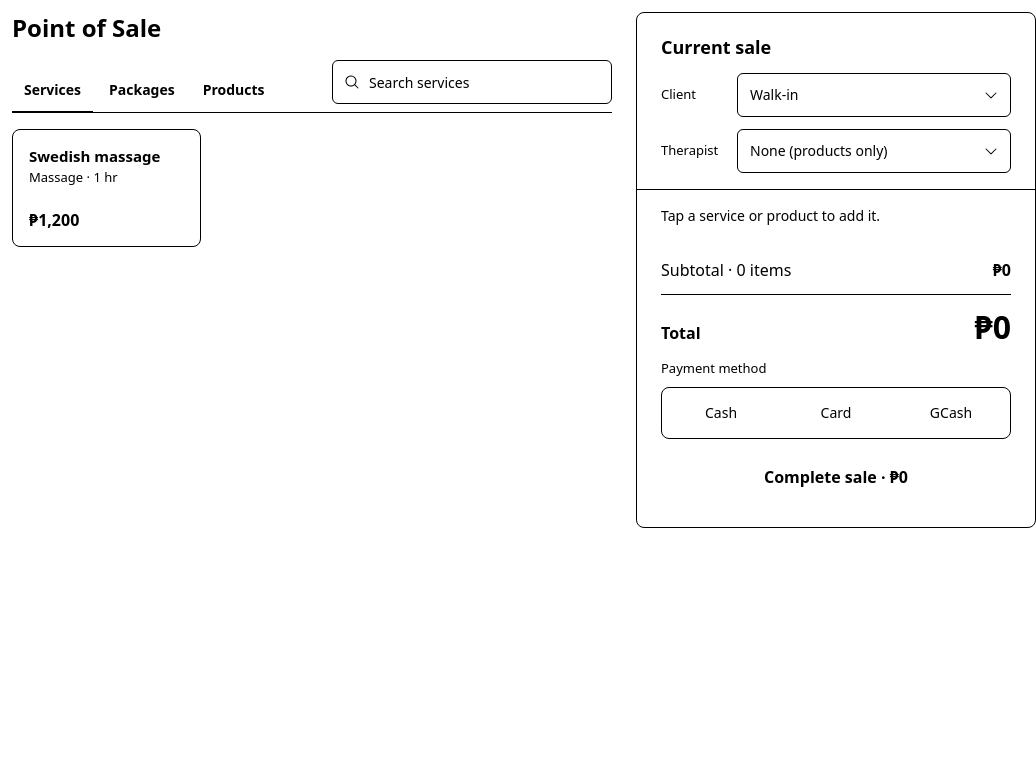
Scenario: Point of Sale › needs a payment method
Click the button "Products" at (234, 91), box x1=191 y1=69 x2=276 y2=113
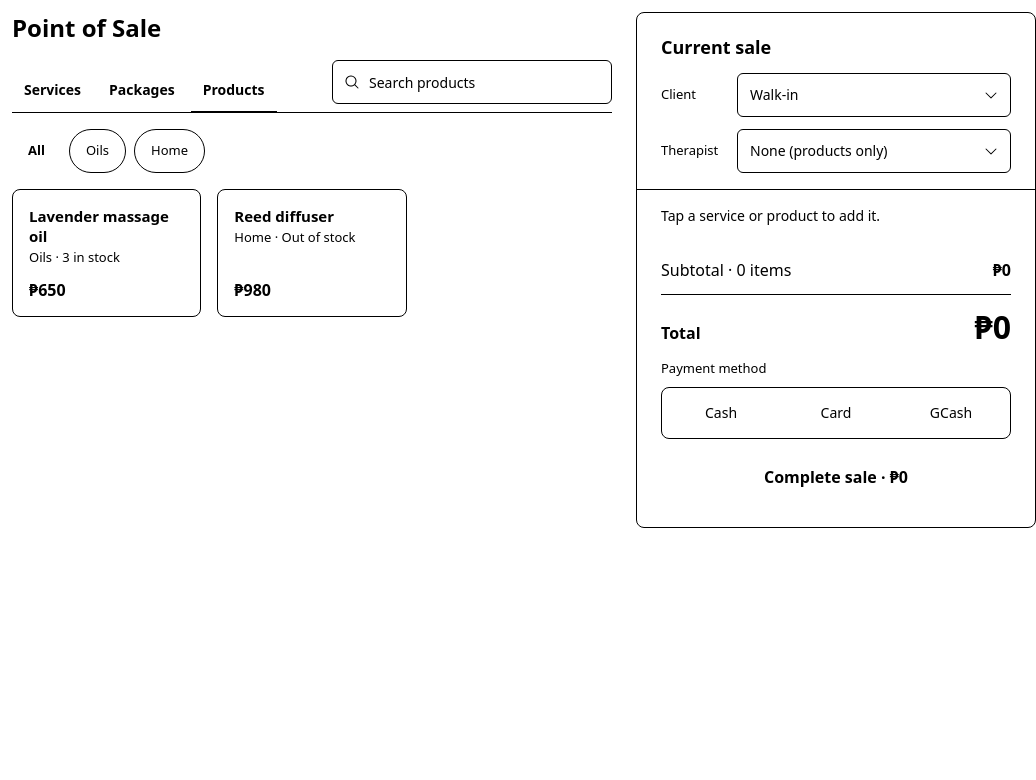
Click the button "Lavender massage oil Oils · 3 in stock ₱650" at (107, 253), box x1=12 y1=189 x2=201 y2=316
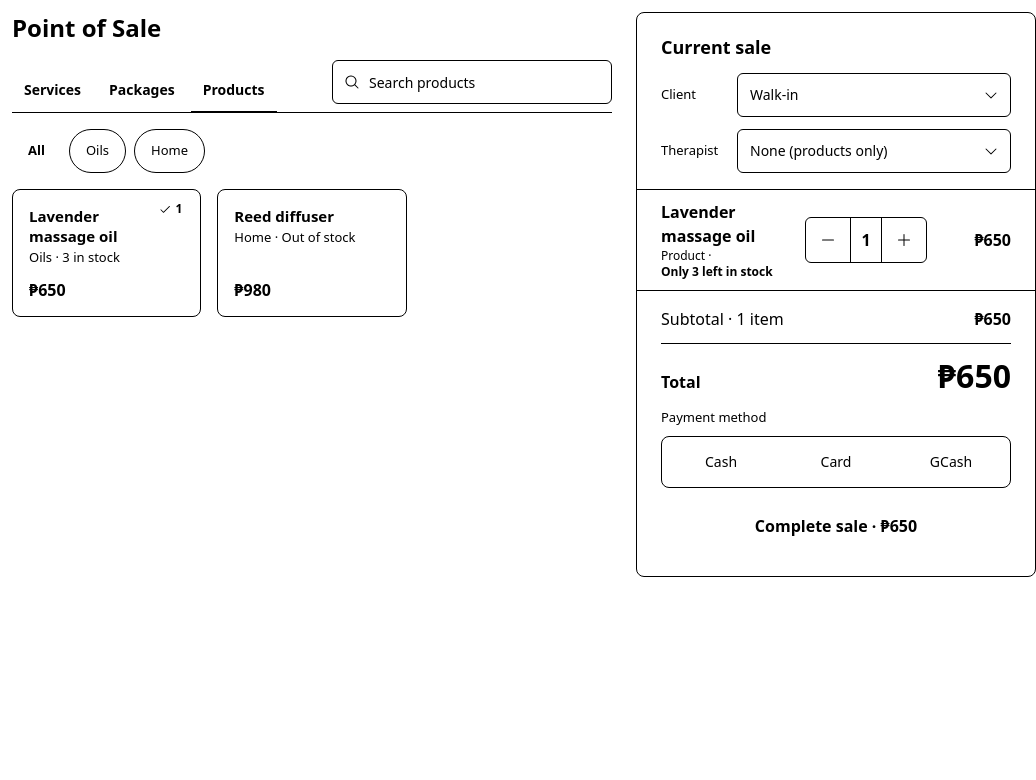
Click the button "Complete sale · ₱650" at (836, 526), box x1=661 y1=500 x2=1011 y2=552
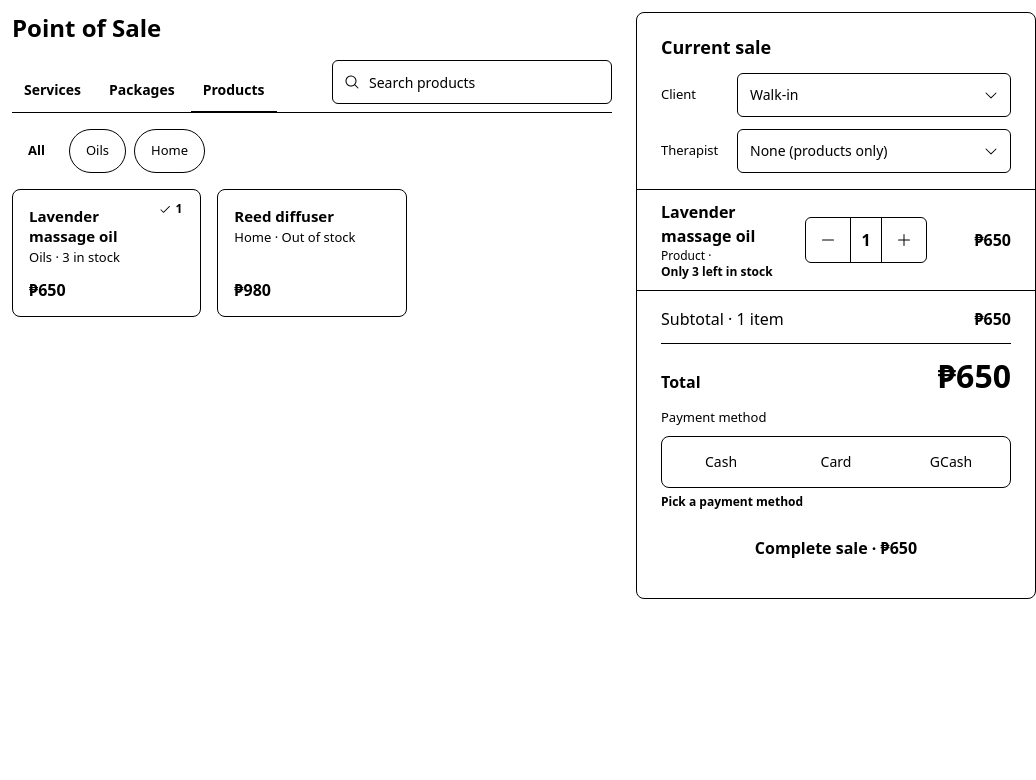
Result: the text "Pick a payment method" is shown at x1=661 y1=492 x2=803 y2=510
